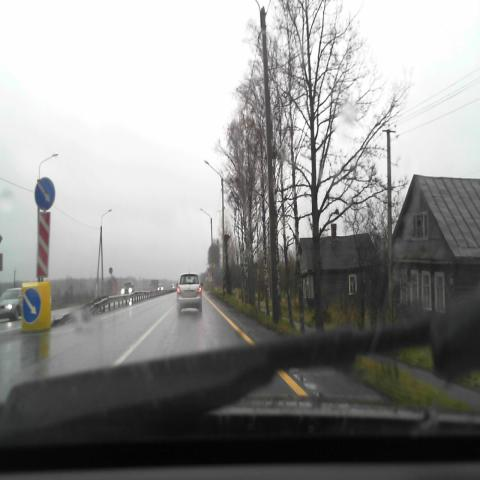4_2_1: (21, 288, 41, 324), (35, 177, 55, 210)
